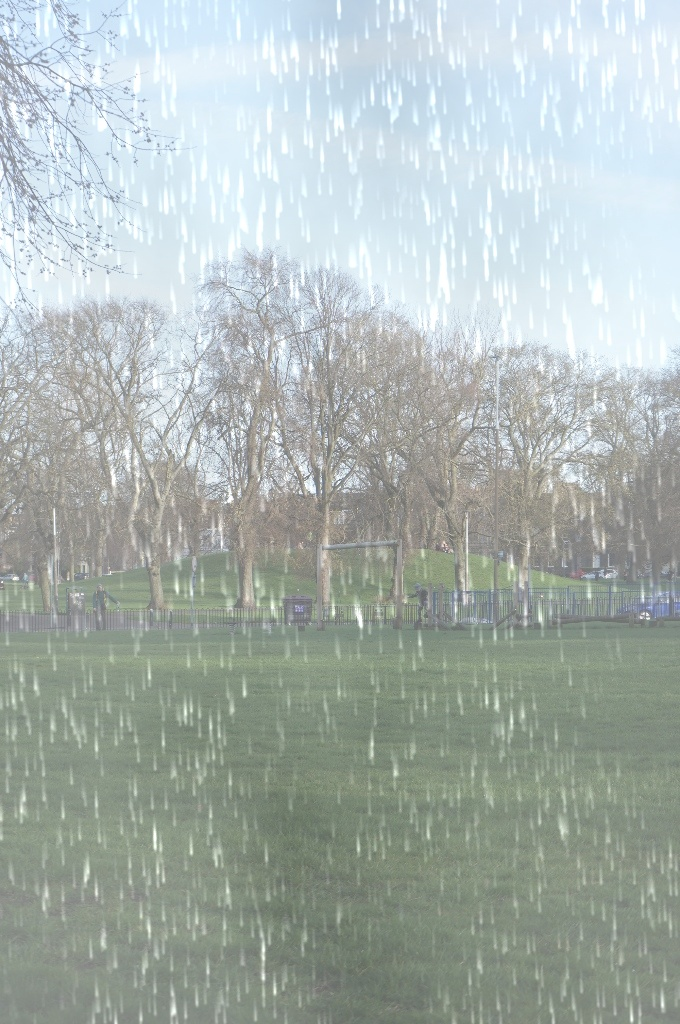Tree: (251, 275, 418, 618), (179, 243, 312, 622), (90, 284, 225, 622), (460, 341, 601, 630), (372, 331, 504, 617), (4, 293, 119, 614), (565, 316, 680, 592)
